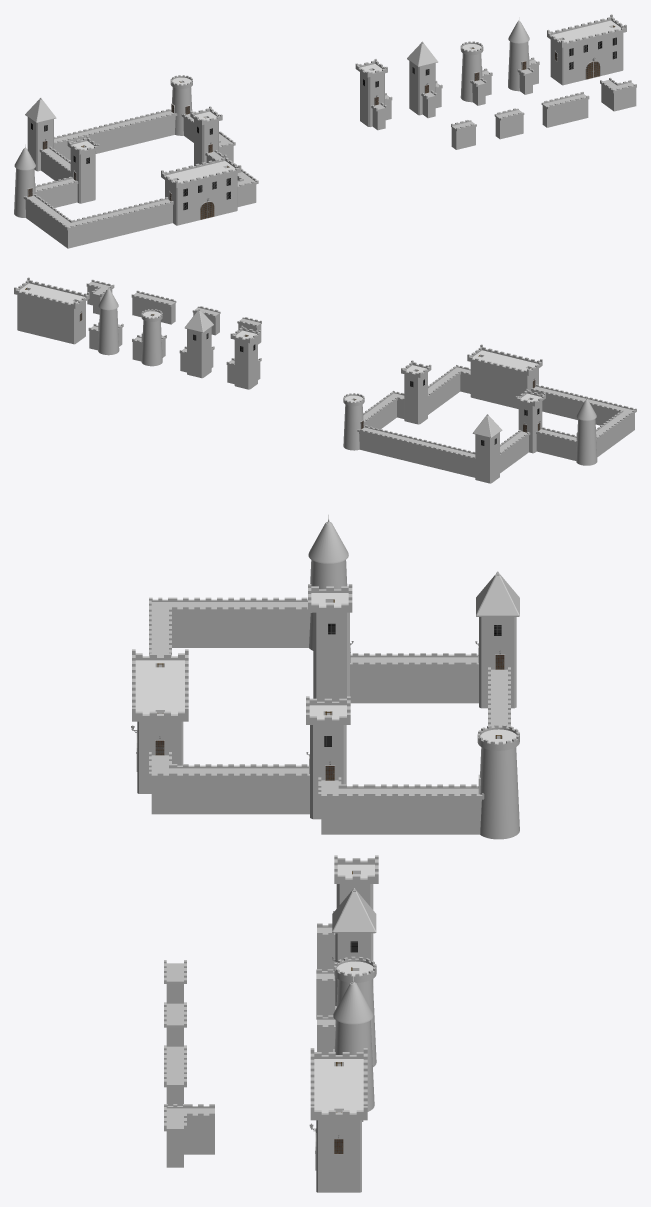
Rendered from Modularcastle.fbx.
3 views of the same model, one above another, from view 1: azimuth 30°, elevation 25°; view 2: azimuth 150°, elevation 25°; view 3: azimuth 270°, elevation 25° (orthographic). The views are drawn at different scales.
Parts seen in each view (by area): view 1: main.005, main, castle tower2.003, castle tower1.002, main.001, main.004, castle tower2.002, castle tower1, wall1.003, castle tower, wall1, wall2 (+25 smaller); view 2: main.005, main, castle tower2.002, castle tower2.003, castle tower1.002, main.001, main.004, castle tower, castle tower3, castle tower3.001, castle tower4.003, castle tower1 (+23 smaller); view 3: main.004, main.001, castle tower2.002, castle tower4, wall2.006, wall2.013, wall2.015, castle tower1, main.005, wall2.002, castle tower, main (+26 smaller).
Boxes of the visible parts, x1,y1,x2,y2 form: main.005: (550,33,623,85); main: (165,173,237,225); castle tower2.003: (409,61,442,118); castle tower1.002: (360,72,392,130); main.001: (161,154,241,187); main.004: (547,14,626,47); castle tower2.002: (27,117,60,173); castle tower1: (70,148,95,203); wall1.003: (542,99,588,127); castle tower: (194,119,218,165); wall1: (131,204,172,232); wall2: (90,215,131,243); main.005: (17,295,85,344); main: (470,362,538,408); castle tower2.002: (467,432,502,483); castle tower2.003: (179,327,214,378); castle tower1.002: (226,338,261,389); main.001: (467,344,542,375); main.004: (14,277,89,308); castle tower: (404,372,427,424); castle tower3: (576,419,597,465); castle tower3.001: (98,308,119,355); castle tower4.003: (141,320,162,366); castle tower1: (518,401,542,453); main.004: (310,1048,367,1120); main.001: (132,649,188,721); castle tower2.002: (460,617,516,708); castle tower4: (480,747,519,839); wall2.006: (369,668,459,703); wall2.013: (200,779,290,814); wall2.015: (369,799,459,834); castle tower1: (313,612,349,701); main.005: (316,1120,361,1192); wall2.002: (200,613,290,647); castle tower: (310,725,346,819); main: (137,721,183,793).
Bounding box in the file's own units: 17577 × 1944 × 5174.
